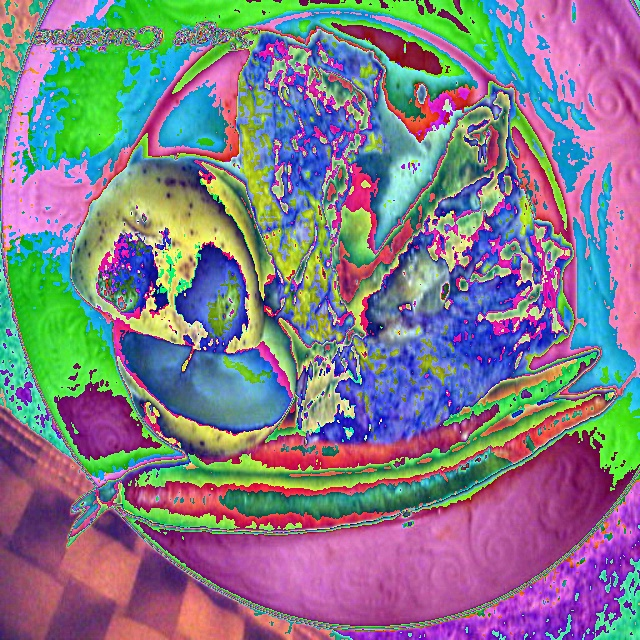background: (68, 25, 616, 544)
